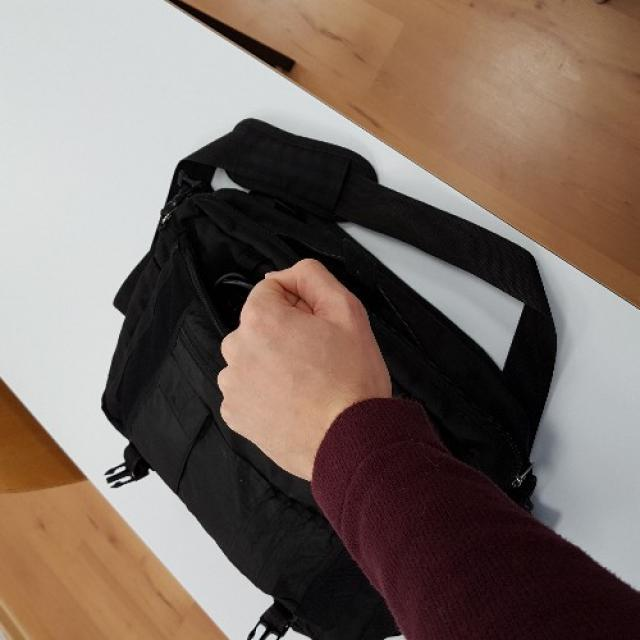rock: (218, 262, 391, 451)
